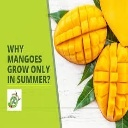mango: (55, 5, 108, 65)
